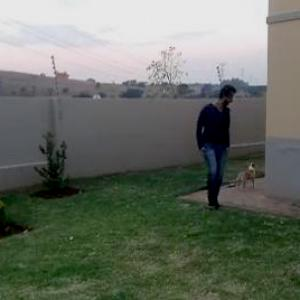follow: (197, 79, 237, 218)
